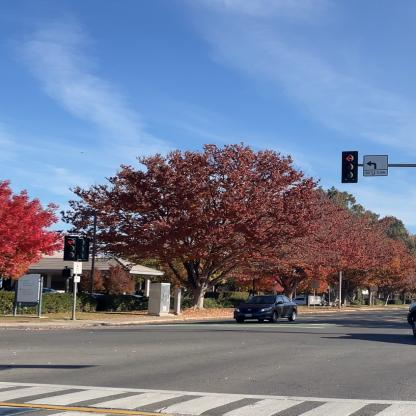left-red: (340, 150, 360, 184), (62, 235, 80, 262)
